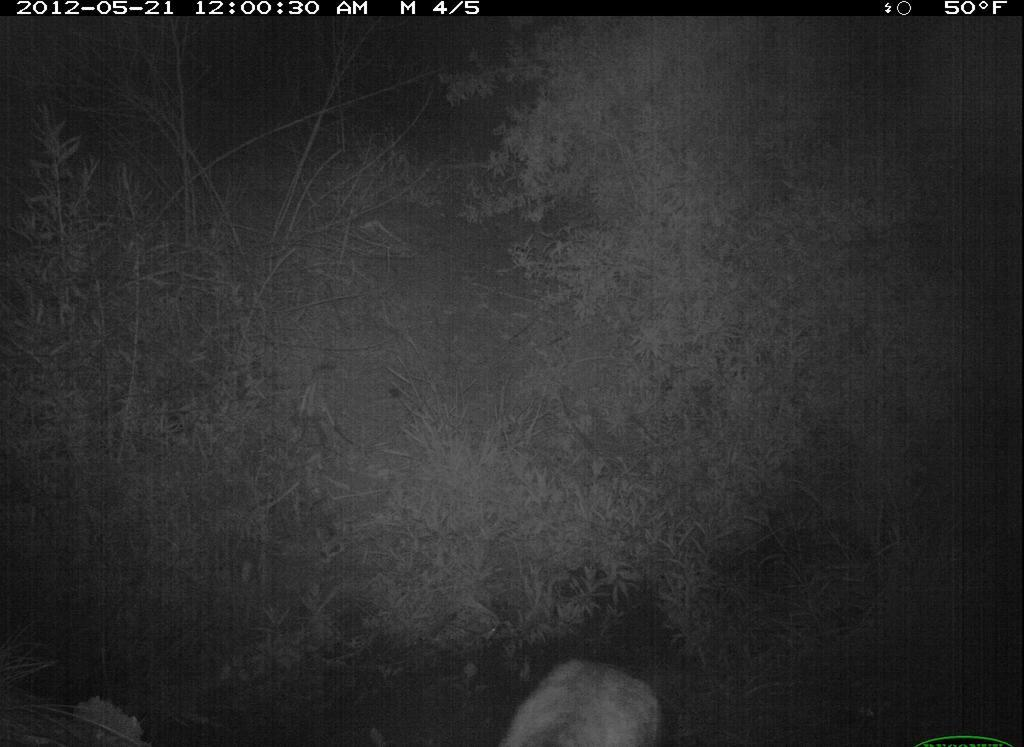cat: (457, 644, 683, 744)
